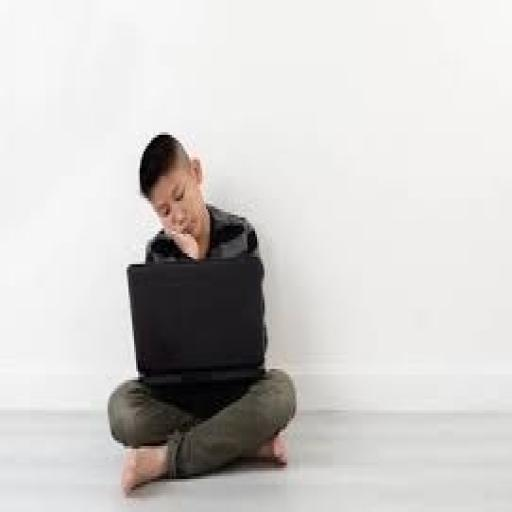using_laptop: (125, 250, 266, 386)
